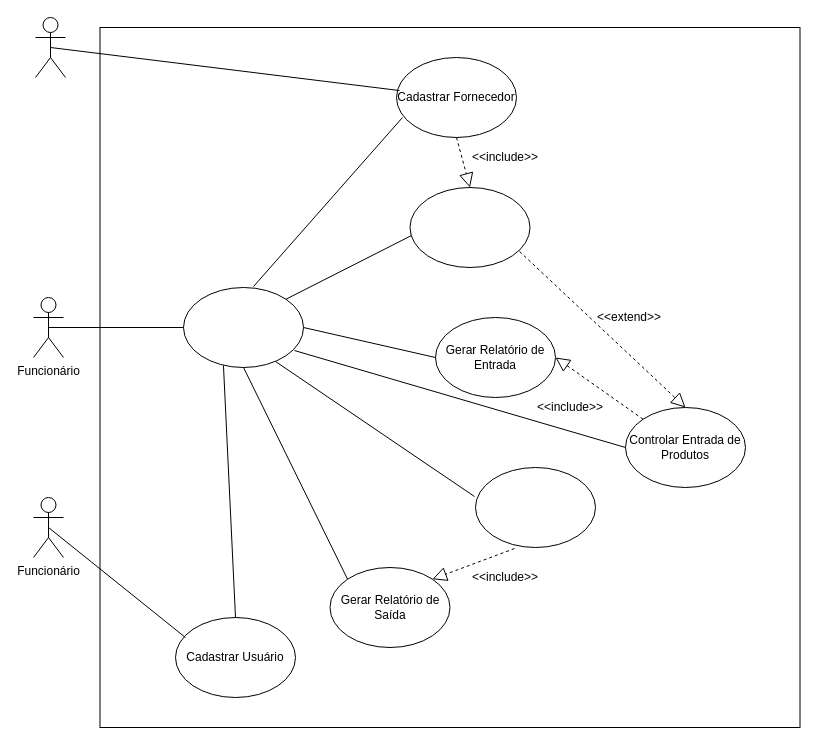
The diagram is 818 pixels wide and 745 high, and some of its shapes have lost their labels. Each missing label, with the centre of its shape:
"Cadastrar Produtos" belongs at [469,227].
"Controlar Saída de Produtos" belongs at [535,507].
"Fornecedor" belongs at [50,47].
"Validar Acesso" belongs at [243,327].
